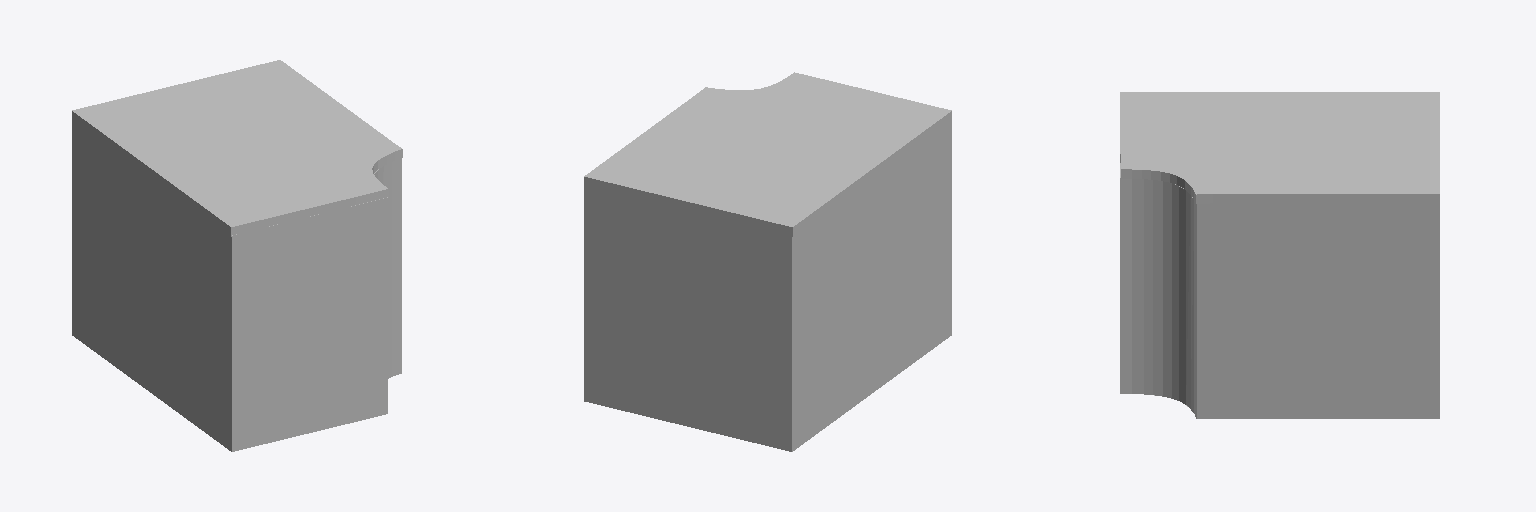
The model's file is BottomCornerCab.obj.
3 views of the same model, side by side, from view 1: azimuth 30°, elevation 25°; view 2: azimuth 150°, elevation 25°; view 3: azimuth 270°, elevation 25° (orthographic).
Visible parts, largest first — view 1: PolyMesh_1, PolyMesh_1_1; view 2: PolyMesh_1, PolyMesh_1_1; view 3: PolyMesh_1, PolyMesh_1_1.
Boxes of the visible parts, x1=… form: PolyMesh_1: x1=72, y1=120, x2=401, y2=451; PolyMesh_1_1: x1=72, y1=60, x2=402, y2=236; PolyMesh_1: x1=584, y1=120, x2=951, y2=451; PolyMesh_1_1: x1=584, y1=72, x2=951, y2=236; PolyMesh_1: x1=1120, y1=163, x2=1439, y2=418; PolyMesh_1_1: x1=1120, y1=92, x2=1439, y2=203.
Size of the model in its own units: 3.3 by 3.4 by 4.37.